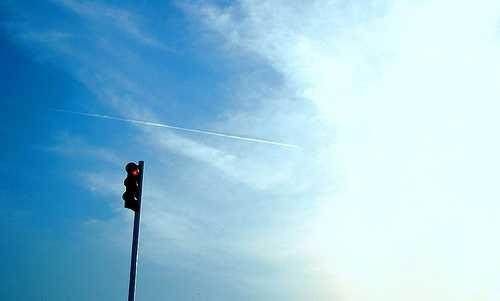red: (122, 160, 143, 212), (122, 160, 142, 178)
